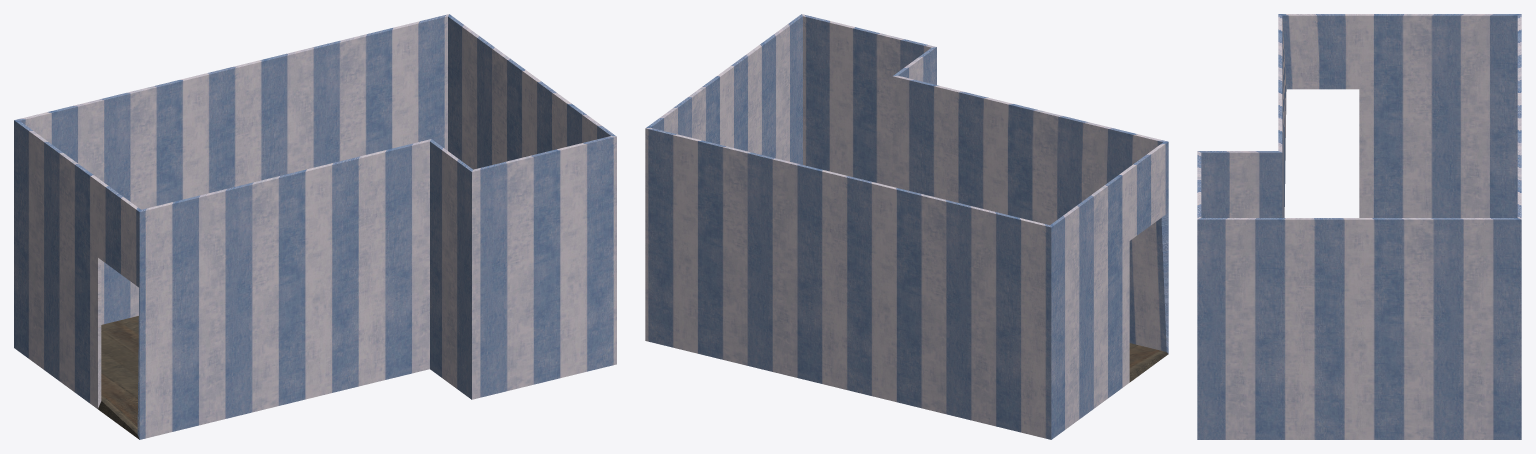
File: bedroom1.glb
The picture shows the model from 3 angles, left to right: view 1: azimuth 30°, elevation 25°; view 2: azimuth 150°, elevation 25°; view 3: azimuth 270°, elevation 25°; orthographic projection. The views are drawn at different scales.
Visible parts, largest first — view 1: Plane; view 2: Plane; view 3: Plane.
Part boxes in pixels (x1,y1,x2,y2): Plane: [14, 14, 616, 439]; Plane: [645, 14, 1168, 439]; Plane: [1197, 14, 1521, 439].
Size of the model in its own units: 6 by 3 by 4.
2 materials, 2 textured.
